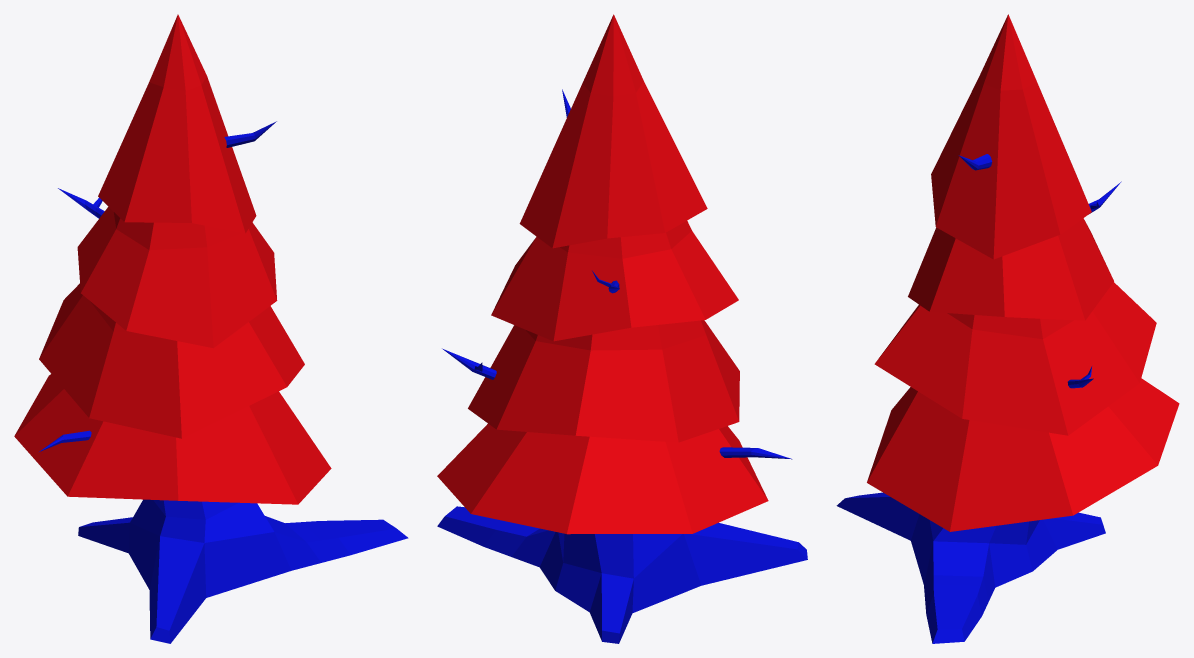
File: SM_Conifer3.fbx
The picture shows the model from 3 angles, left to right: view 1: azimuth 30°, elevation 25°; view 2: azimuth 150°, elevation 25°; view 3: azimuth 270°, elevation 25°; orthographic projection. The views are drawn at different scales.
Parts seen in each view (by area): view 1: SM_Conifer3; view 2: SM_Conifer3; view 3: SM_Conifer3.
Part boxes in pixels (x1=…): SM_Conifer3: x1=14, y1=14, x2=408, y2=643; SM_Conifer3: x1=437, y1=14, x2=807, y2=643; SM_Conifer3: x1=836, y1=14, x2=1179, y2=643.
Size of the model in its own units: 172 by 258 by 149.
